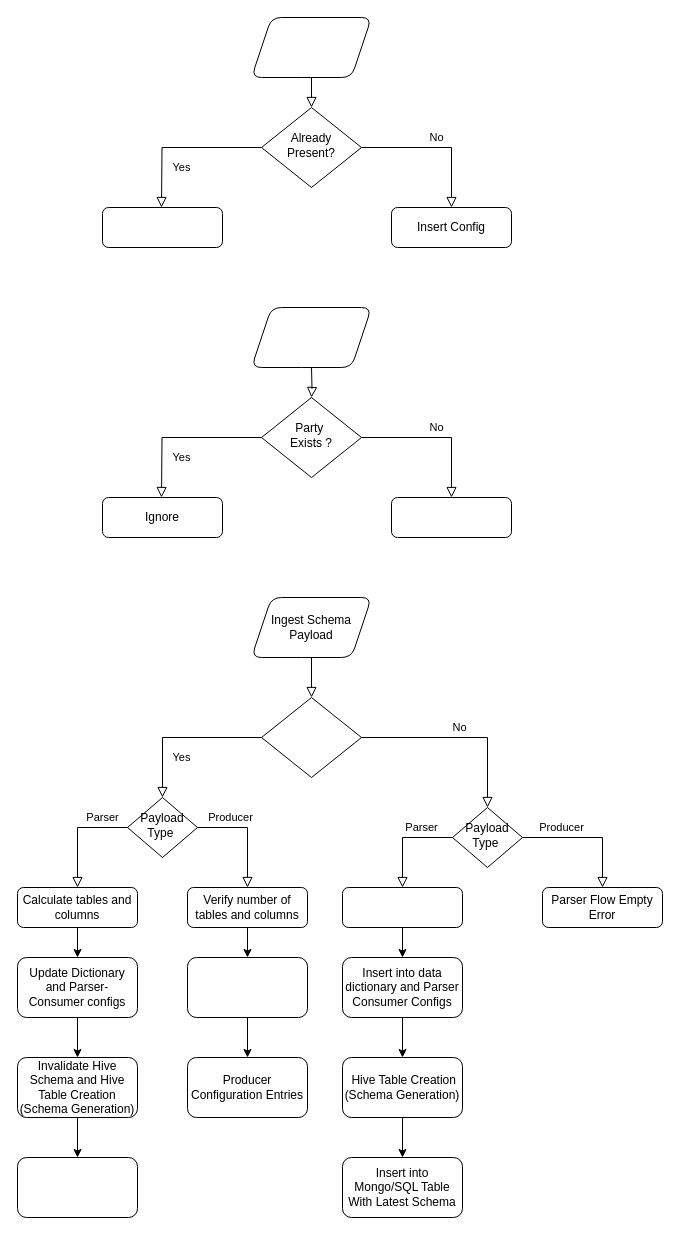
The diagram is 680 pixels wide and 1235 high, and some of its shapes have lost their labels. Here are the shapes that lost their labels. From the top down, the centre of each, then its label:
At point 311,47: "Create Connection".
At point 162,227: "Update Config".
At point 311,337: "Create Party".
At point 451,517: "Insert as new application".
At point 311,737: "Application Exists?".
At point 402,907: "Define Tables and Columns".
At point 247,987: "Topic Creation (KSQL/Manual)".
At point 77,1187: "Update Mongo/SQL Table With Latest Schema".
